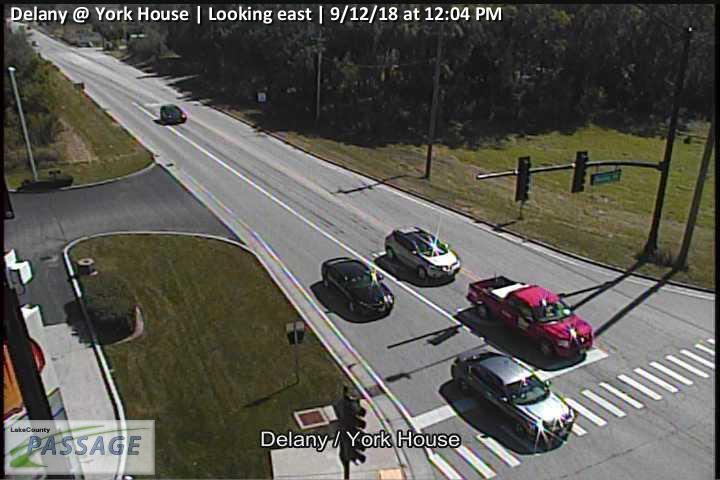SUV: (385, 226, 461, 283)
Sedan: (452, 349, 575, 440), (322, 257, 394, 316), (160, 104, 187, 124)
Truck: (466, 276, 593, 359)
